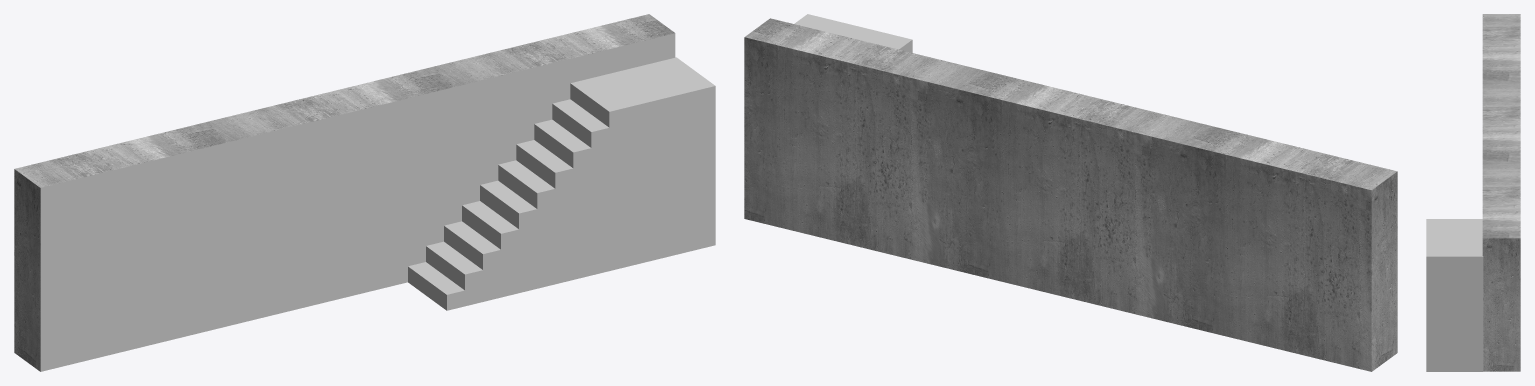
Rendered from pared2DeptoB.DAE.
The picture shows the model from 3 angles, left to right: view 1: azimuth 30°, elevation 25°; view 2: azimuth 150°, elevation 25°; view 3: azimuth 270°, elevation 25°; orthographic projection. The views are drawn at different scales.
Visible parts, largest first — view 1: Box007; view 2: Box007; view 3: Box007.
Part boxes in pixels (x1,y1,x2,y2): Box007: (14, 14, 715, 371); Box007: (744, 14, 1397, 371); Box007: (1426, 14, 1520, 371).
Size of the model in its own units: 11.22 by 3.1 by 1.99.
